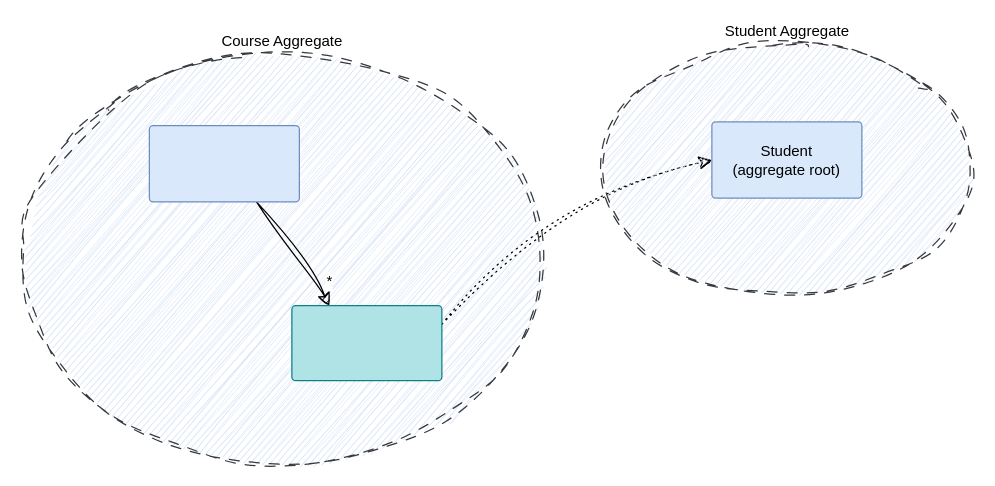
This 995x486 diagram has some shape labels left out. The shapes that lost their labels are listed below. From the top down, each one's centre as x and y in pixels, then its label:
the point at 223,163: Course (aggregate root)
the point at 366,342: StudentId
